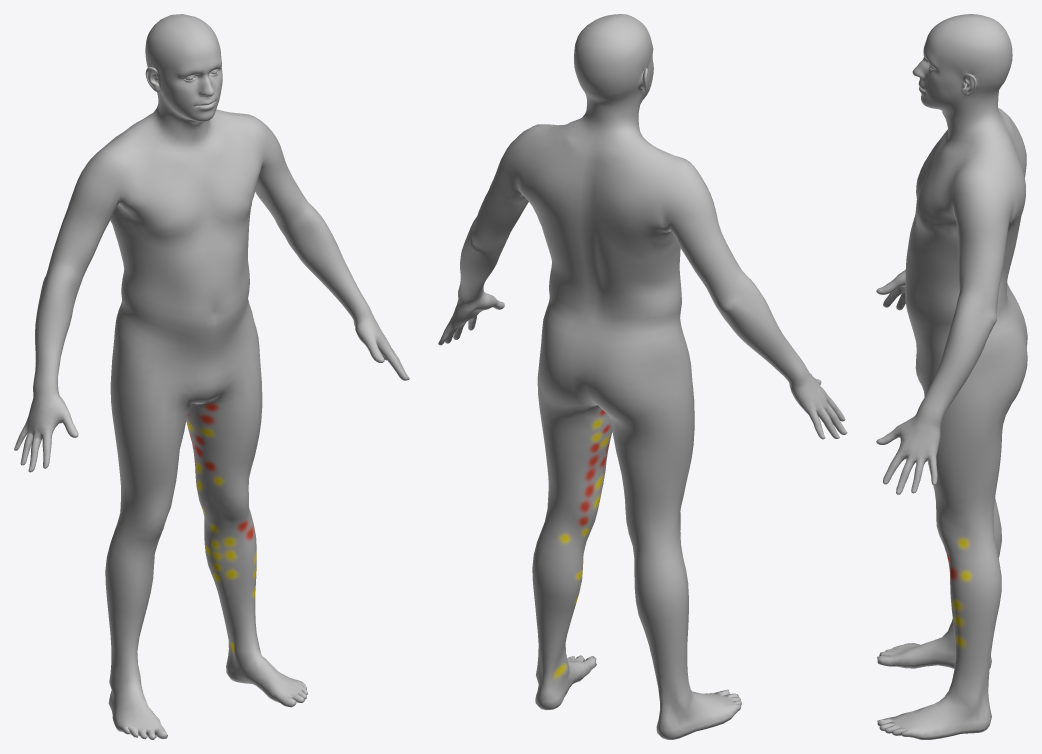
The model's file is 1135018-layingdown-red+yellow.gltf.
The picture shows the model from 3 angles, left to right: view 1: azimuth 30°, elevation 25°; view 2: azimuth 150°, elevation 25°; view 3: azimuth 270°, elevation 25°; orthographic projection. The views are drawn at different scales.
Parts seen in each view (by area): view 1: Male 68in 160lbs-A-pose; view 2: Male 68in 160lbs-A-pose; view 3: Male 68in 160lbs-A-pose.
Part boxes in pixels (bbox=[...]): Male 68in 160lbs-A-pose: bbox=[14, 14, 409, 739]; Male 68in 160lbs-A-pose: bbox=[438, 14, 847, 739]; Male 68in 160lbs-A-pose: bbox=[876, 14, 1027, 739].
Size of the model in its own units: 3.05 by 5.17 by 1.04.
1 material, 1 textured.
